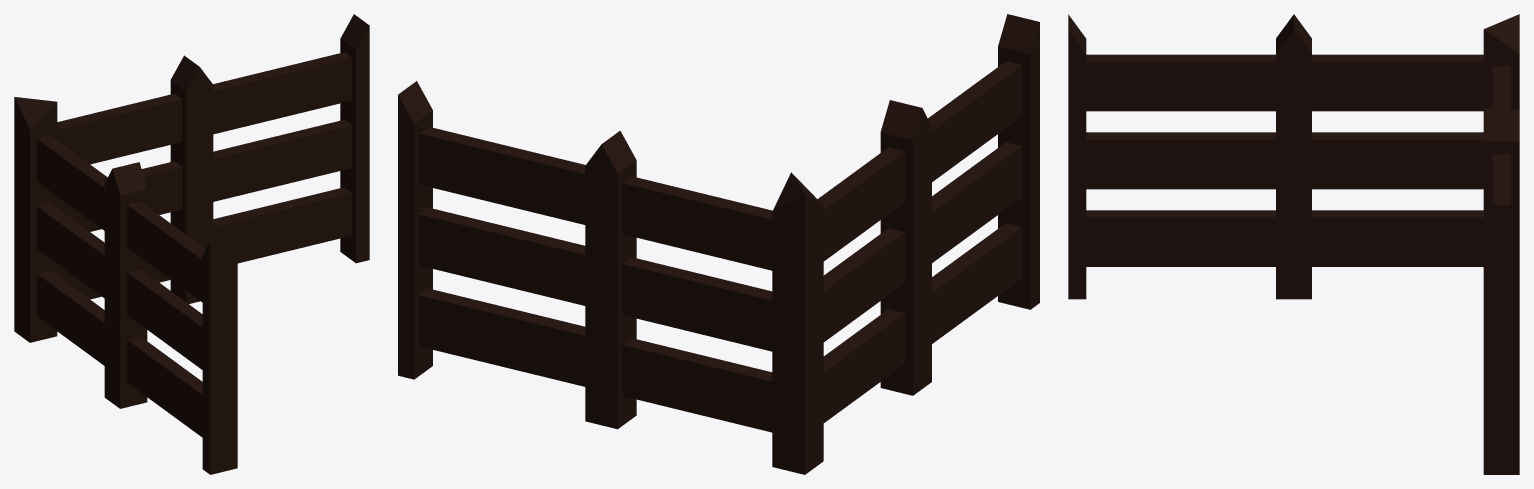
File: h-004_fence_2.5_edge_F.FBX
The picture shows the model from 3 angles, left to right: view 1: azimuth 30°, elevation 25°; view 2: azimuth 150°, elevation 25°; view 3: azimuth 270°, elevation 25°; orthographic projection. The views are drawn at different scales.
Visible parts, largest first — view 1: h-004_fence_2.5_edge; view 2: h-004_fence_2.5_edge; view 3: h-004_fence_2.5_edge.
Boxes of the visible parts, bbox=[...] form: h-004_fence_2.5_edge: bbox=[14, 14, 369, 474]; h-004_fence_2.5_edge: bbox=[398, 14, 1039, 474]; h-004_fence_2.5_edge: bbox=[1068, 14, 1519, 474].
Bounding box in the file's own units: 25 × 16.5 × 25.
